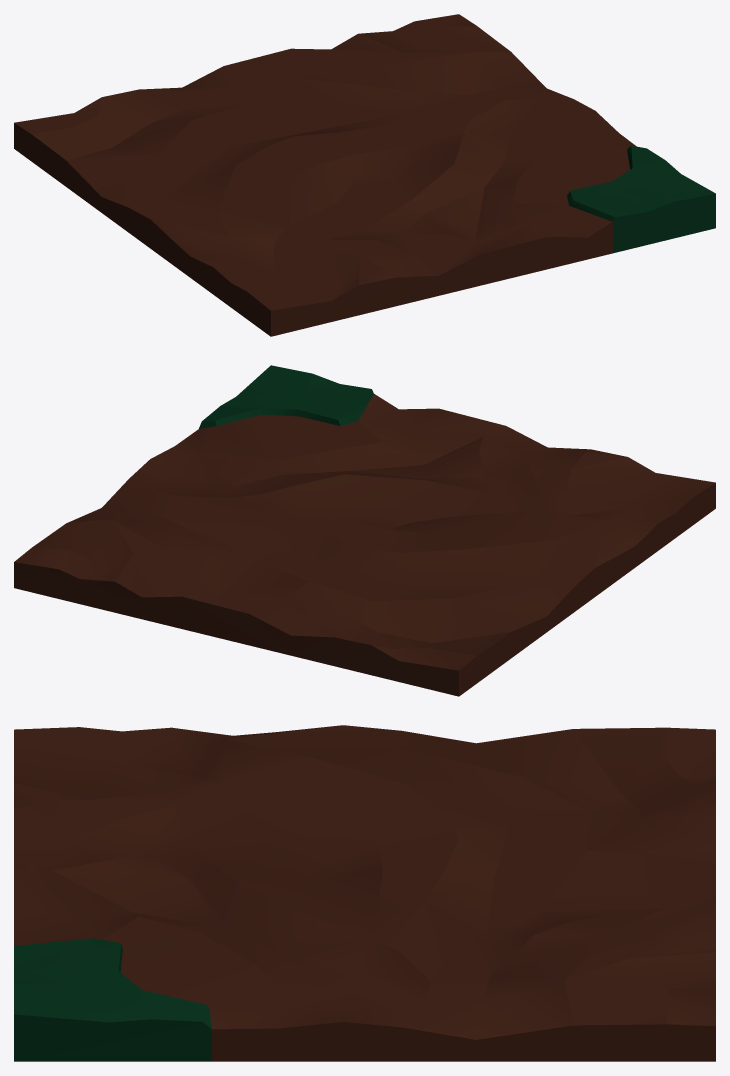
File: Ground_Corner_External_RB.fbx
3 renders of one model, top to bottom at view 1: azimuth 30°, elevation 25°; view 2: azimuth 150°, elevation 25°; view 3: azimuth 270°, elevation 25°, orthographic. The views are drawn at different scales.
Parts seen in each view (by area): view 1: Ground_Corner_External_RB; view 2: Ground_Corner_External_RB; view 3: Ground_Corner_External_RB.
Boxes of the visible parts, x1,y1,x2,y2 form: Ground_Corner_External_RB: (14,14,715,336); Ground_Corner_External_RB: (14,365,715,696); Ground_Corner_External_RB: (14,725,715,1061).
Bounding box in the file's own units: 147 × 12.24 × 147.
